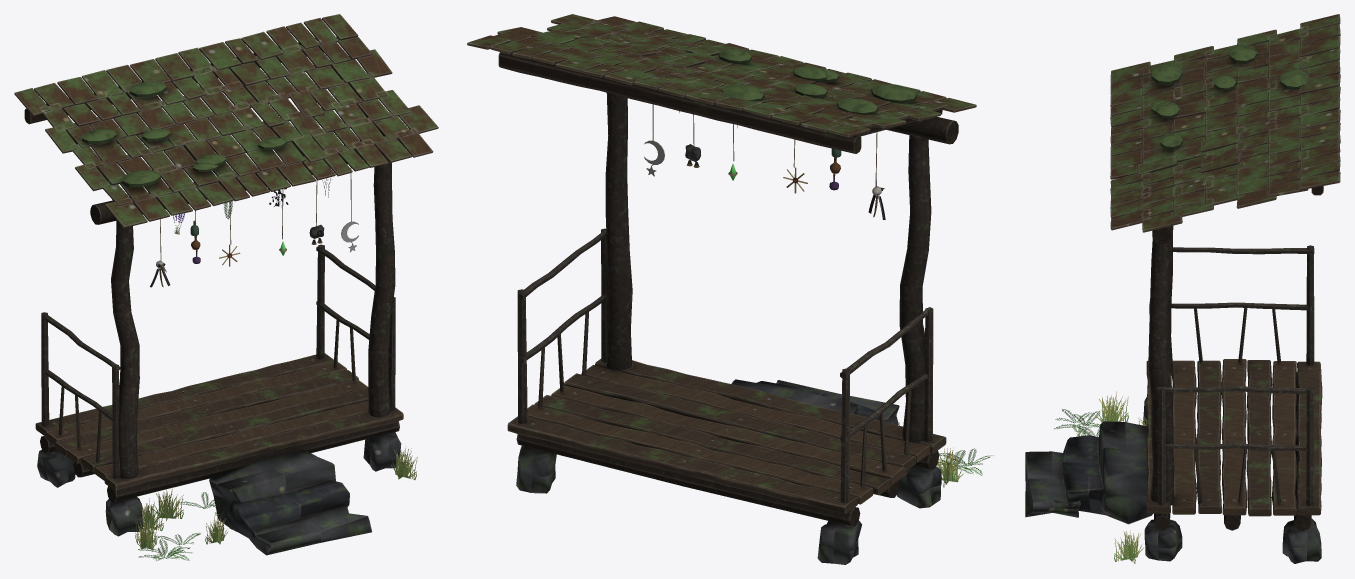
File: HutPorch.fbx
3 renders of one model, left to right at view 1: azimuth 30°, elevation 25°; view 2: azimuth 150°, elevation 25°; view 3: azimuth 270°, elevation 25°, orthographic. The views are drawn at different scales.
Parts seen in each view (by area): view 1: HutPorch_Main, HutPorch_Leaves; view 2: HutPorch_Main, HutPorch_Leaves; view 3: HutPorch_Main, HutPorch_Leaves.
Boxes of the visible parts, x1,y1,x2,y2 form: HutPorch_Main: [14, 14, 438, 555]; HutPorch_Leaves: [135, 178, 417, 560]; HutPorch_Main: [467, 14, 976, 564]; HutPorch_Leaves: [679, 111, 992, 487]; HutPorch_Main: [1025, 14, 1340, 563]; HutPorch_Leaves: [1054, 391, 1147, 563].
Bounding box in the file's own units: 1034 × 1135 × 808.
